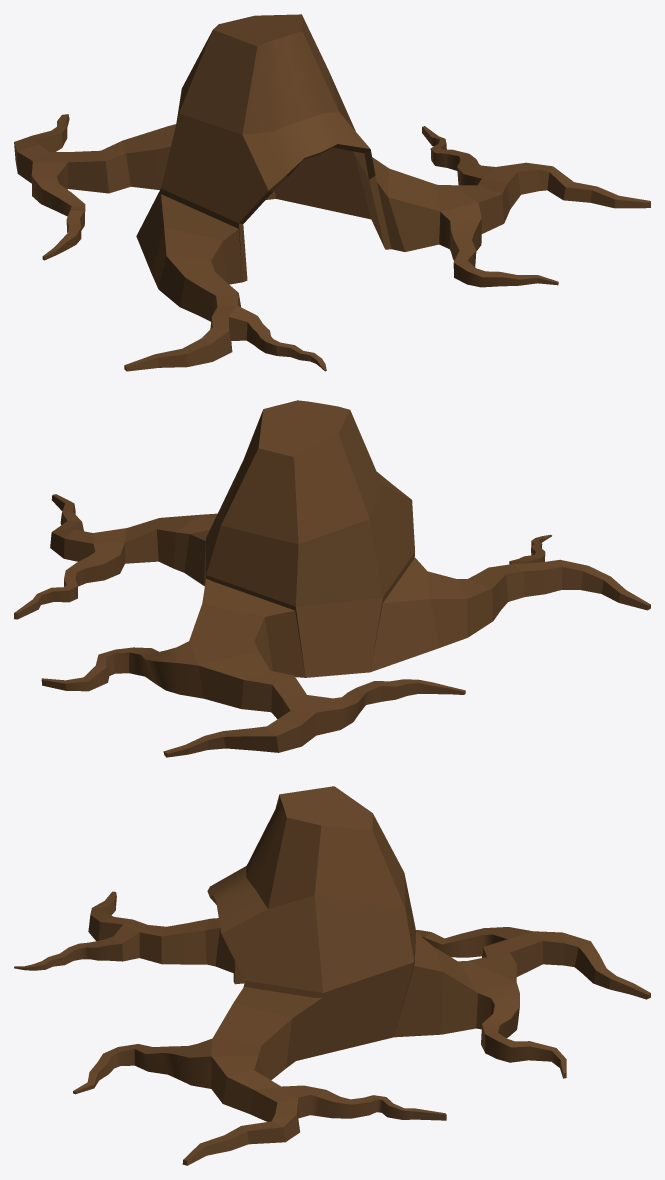
File: Tree_Entrance_Trunk_24_9_26.fbx
The picture shows the model from 3 angles, top to bottom: view 1: azimuth 30°, elevation 25°; view 2: azimuth 150°, elevation 25°; view 3: azimuth 270°, elevation 25°; orthographic projection.
Parts seen in each view (by area): view 1: Main_Tree_Trunk, Tree_Root2, Tree_Root, Tree_Root1; view 2: Main_Tree_Trunk, Tree_Root1, Tree_Root, Tree_Root2; view 3: Main_Tree_Trunk, Tree_Root2, Tree_Root1, Tree_Root.
Part boxes in pixels (box(x1,y1,x2,y2)): Main_Tree_Trunk: box(138, 14, 391, 281); Tree_Root2: box(372, 126, 650, 287); Tree_Root: box(124, 194, 326, 371); Tree_Root1: box(14, 114, 175, 260); Main_Tree_Trunk: box(206, 400, 414, 677); Tree_Root1: box(41, 579, 465, 757); Tree_Root: box(370, 534, 650, 672); Tree_Root2: box(14, 494, 217, 619); Main_Tree_Trunk: box(207, 786, 415, 1060); Tree_Root2: box(73, 987, 446, 1165); Tree_Root1: box(394, 927, 650, 1078); Tree_Root: box(14, 891, 233, 972).
Bounding box in the file's own units: 2510 × 902 × 2506.
